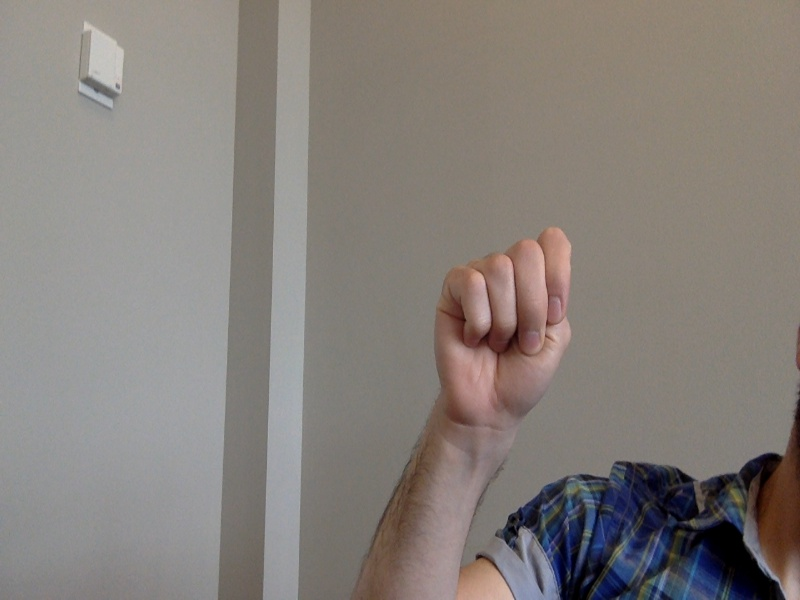0-hand: (430, 224, 577, 435)
